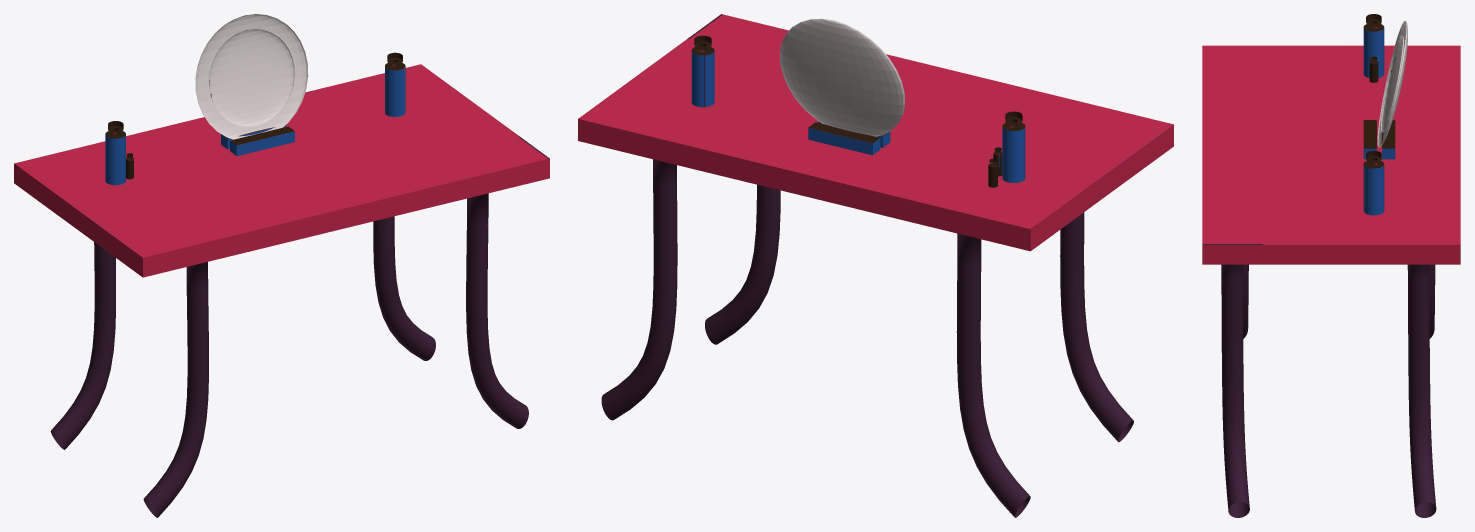
File: MasaConPlato.obj
3 renders of one model, left to right at view 1: azimuth 30°, elevation 25°; view 2: azimuth 150°, elevation 25°; view 3: azimuth 270°, elevation 25°, orthographic. The views are drawn at different scales.
Parts seen in each view (by area): view 1: Cube.021_Cube.023; view 2: Cube.021_Cube.023; view 3: Cube.021_Cube.023.
Part boxes in pixels (bbox=[...]): Cube.021_Cube.023: bbox=[14, 14, 549, 517]; Cube.021_Cube.023: bbox=[578, 14, 1173, 517]; Cube.021_Cube.023: bbox=[1202, 14, 1460, 517].
Size of the model in its own units: 12.82 by 11.98 by 7.03.
1 material, 1 textured.
